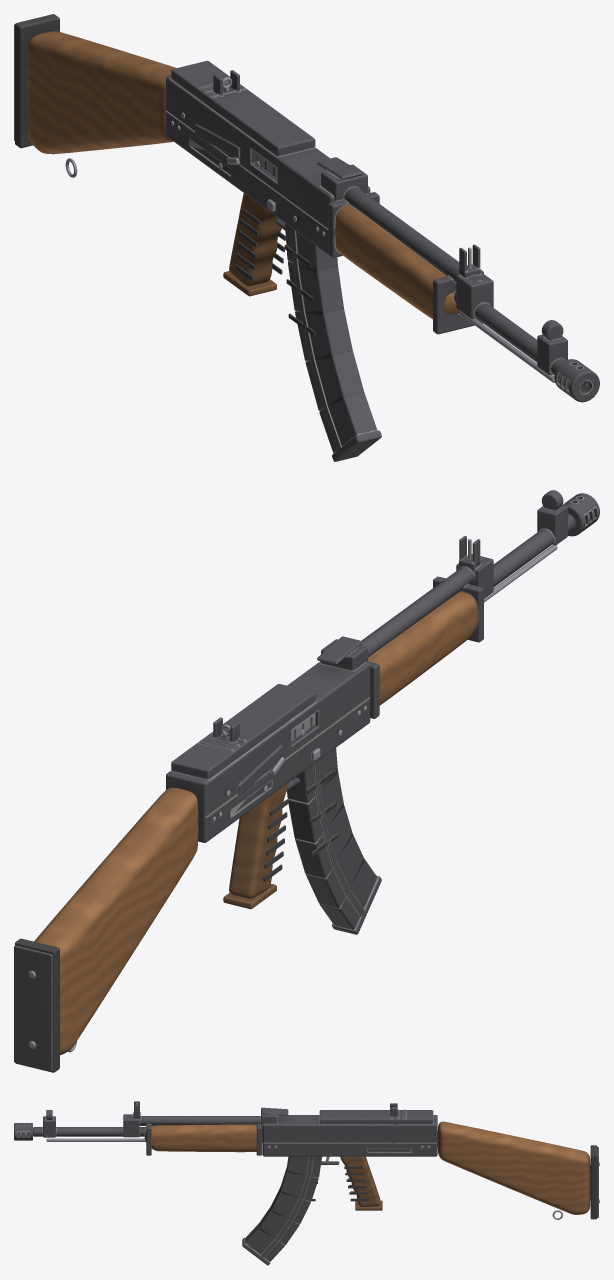
3 views of the same model, one above another, from view 1: azimuth 30°, elevation 25°; view 2: azimuth 150°, elevation 25°; view 3: azimuth 270°, elevation 25° (orthographic). The views are drawn at different scales.
Parts seen in each view (by area): view 1: ak47; view 2: ak47; view 3: ak47.
Part boxes in pixels (bbox=[...]): ak47: bbox=[14, 14, 599, 461]; ak47: bbox=[14, 490, 599, 1072]; ak47: bbox=[14, 1101, 599, 1265].
Size of the model in its own units: 0.0535 by 0.322 by 1.07.
